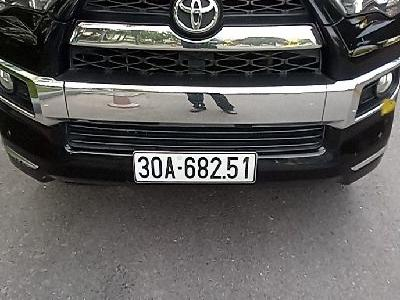lisence: (130, 145, 260, 187)
